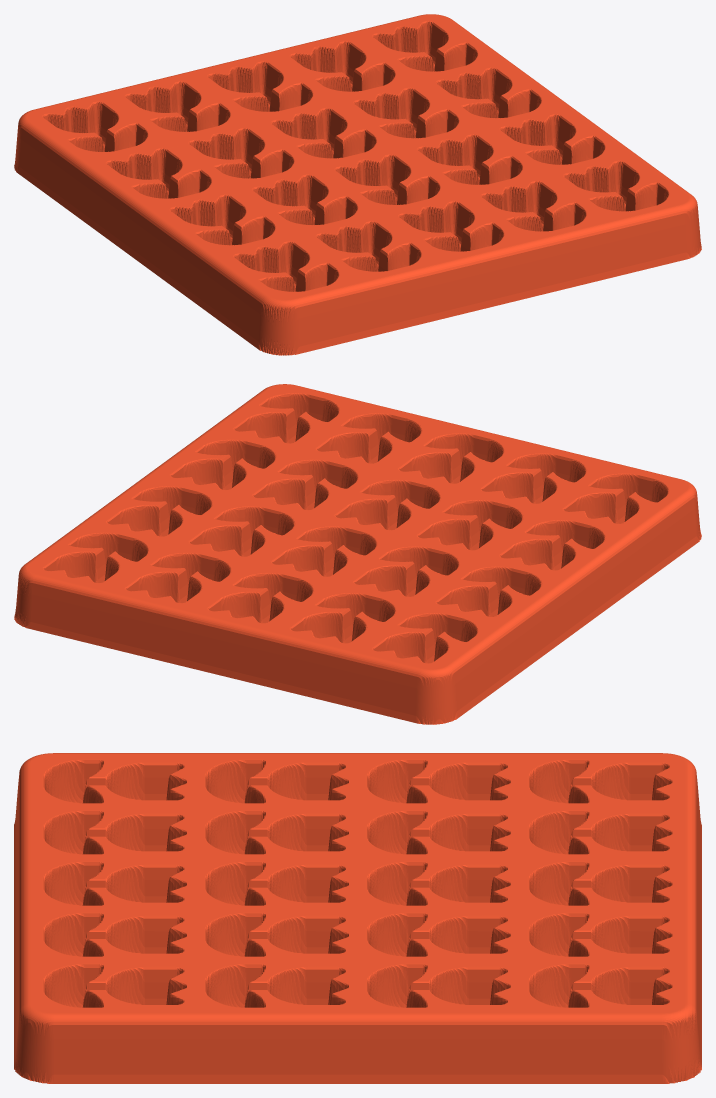
The model's file is mold.glb.
3 views of the same model, one above another, from view 1: azimuth 30°, elevation 25°; view 2: azimuth 150°, elevation 25°; view 3: azimuth 270°, elevation 25° (orthographic). The views are drawn at different scales.
Parts seen in each view (by area): view 1: geometry_0; view 2: geometry_0; view 3: geometry_0.
Boxes of the visible parts, x1=… form: geometry_0: x1=14, y1=14, x2=701, y2=355; geometry_0: x1=14, y1=384, x2=701, y2=724; geometry_0: x1=14, y1=753, x2=701, y2=1083.
Size of the model in its own units: 0.1467 by 0.0159 by 0.1563.
